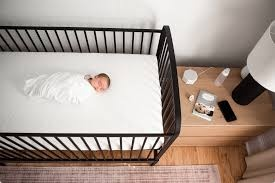baby: (24, 72, 109, 103)
crib: (0, 26, 180, 164)
